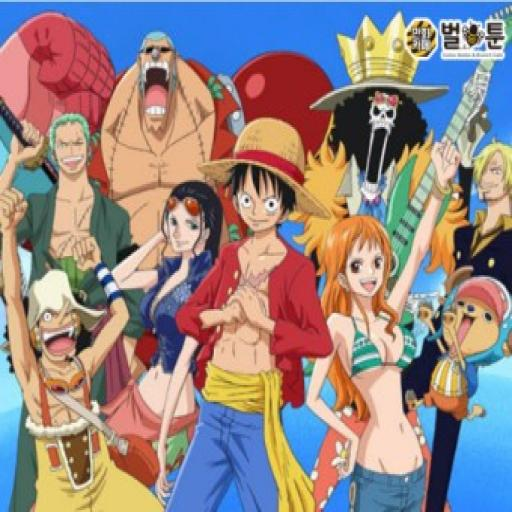Luffy: (202, 122, 328, 236)
Nami: (321, 220, 394, 317)
NicoRobin: (155, 173, 228, 269)
Usopp: (20, 258, 96, 365)
Zoro: (41, 108, 100, 181)
sanji: (470, 140, 511, 212)
